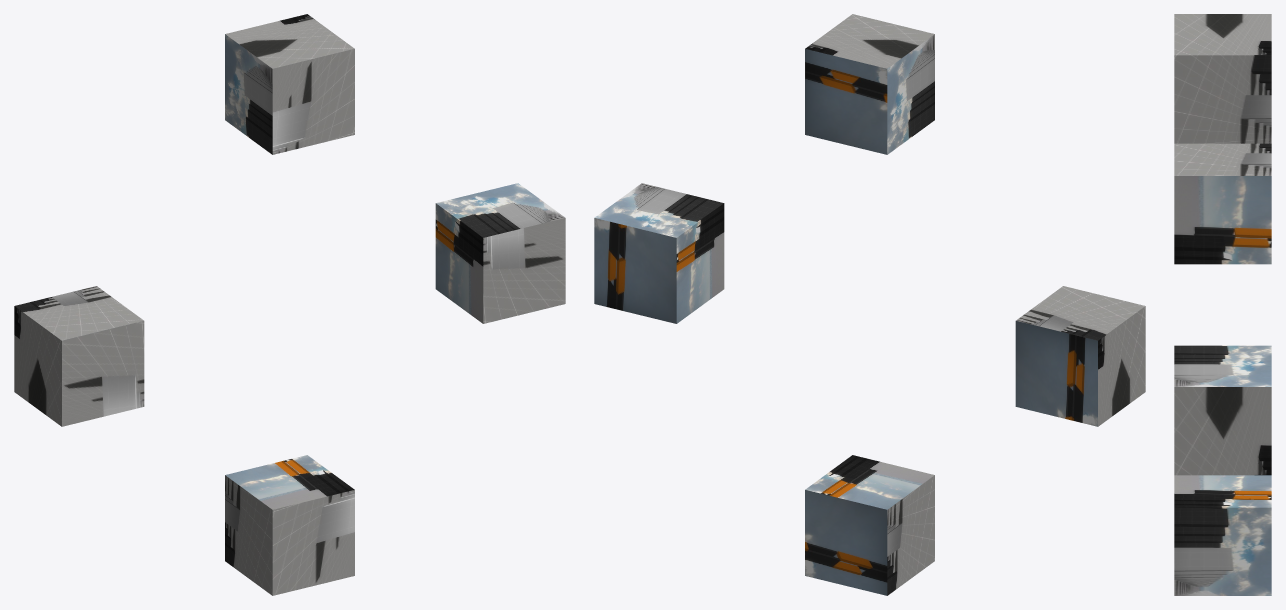
3 views of the same model, side by side, from view 1: azimuth 30°, elevation 25°; view 2: azimuth 150°, elevation 25°; view 3: azimuth 270°, elevation 25° (orthographic). The views are drawn at different scales.
Visible parts, largest first — view 1: dikksomalomale, harold, fuckface, jeff; view 2: dikksomalomale, harold, fuckface, jeff; view 3: harold, fuckface, dikksomalomale, jeff.
Part boxes in pixels (x1=…): dikksomalomale: x1=14, y1=286, x2=144, y2=426; harold: x1=435, y1=183, x2=565, y2=323; fuckface: x1=225, y1=14, x2=354, y2=154; jeff: x1=225, y1=455, x2=354, y2=595; dikksomalomale: x1=1015, y1=286, x2=1145, y2=426; harold: x1=594, y1=183, x2=724, y2=323; fuckface: x1=805, y1=14, x2=934, y2=154; jeff: x1=805, y1=455, x2=934, y2=595; harold: x1=1174, y1=345, x2=1271, y2=475; fuckface: x1=1174, y1=14, x2=1271, y2=143; dikksomalomale: x1=1174, y1=143, x2=1271, y2=264; jeff: x1=1174, y1=475, x2=1271, y2=595.
Size of the model in its own units: 4.78 by 0.7813 by 4.78.
Materials: 3 (3 with a texture image).
